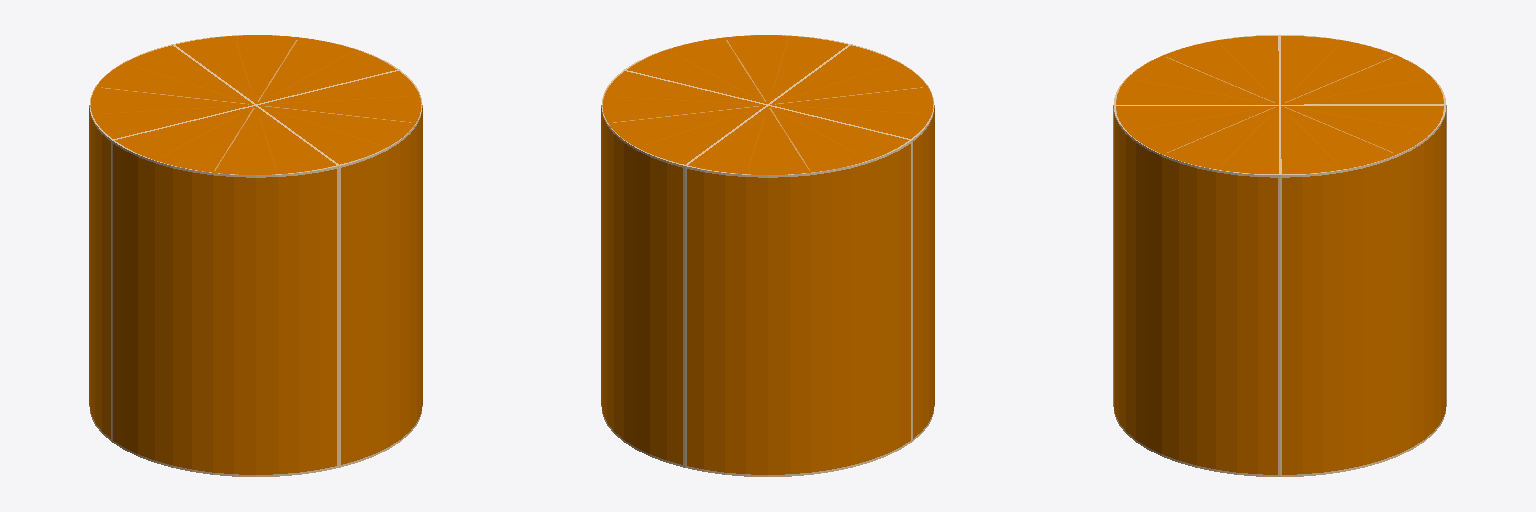
The picture shows the model from 3 angles: view 1: azimuth 30°, elevation 25°; view 2: azimuth 150°, elevation 25°; view 3: azimuth 270°, elevation 25°; orthographic projection.
Parts seen in each view (by area): view 1: Cylinder_HQ_Cylinder.003; view 2: Cylinder_HQ_Cylinder.003; view 3: Cylinder_HQ_Cylinder.003.
Part boxes in pixels (x1,y1,x2,y2): Cylinder_HQ_Cylinder.003: (89, 35, 422, 476); Cylinder_HQ_Cylinder.003: (601, 35, 934, 476); Cylinder_HQ_Cylinder.003: (1113, 35, 1446, 476).
Bounding box in the file's own units: 1 × 1 × 1.
Materials: 1 (1 with a texture image).